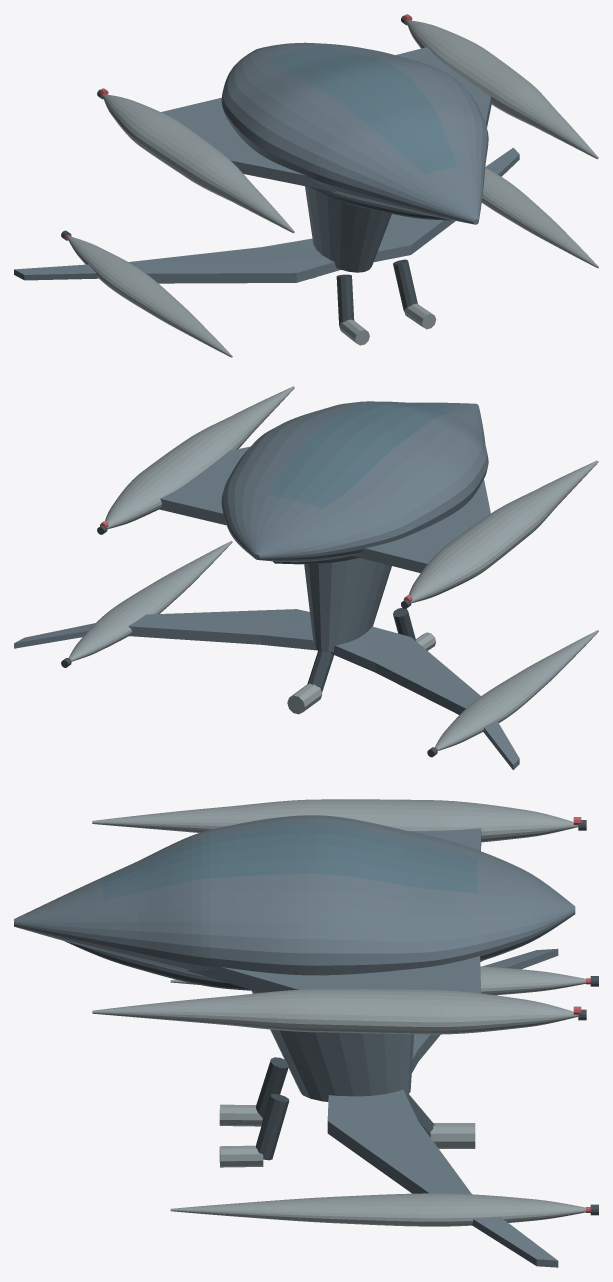
Rendered from arma_navy_landed.glb.
3 views of the same model, one above another, from view 1: azimuth 30°, elevation 25°; view 2: azimuth 150°, elevation 25°; view 3: azimuth 270°, elevation 25° (orthographic). The views are drawn at different scales.
Visible parts, largest first — view 1: material_0, material_3, material_1, material_2; view 2: material_0, material_3, material_1, material_2; view 3: material_0, material_3, material_1, material_2.
Boxes of the visible parts, x1,y1,x2,y2 form: material_0: (14, 42, 519, 283); material_3: (67, 20, 598, 357); material_1: (267, 46, 457, 174); material_2: (61, 15, 453, 325); material_0: (14, 401, 519, 770); material_3: (68, 386, 598, 750); material_1: (267, 401, 457, 508); material_2: (61, 525, 437, 757); material_0: (14, 815, 575, 1267); material_3: (92, 799, 585, 1226); material_1: (103, 824, 477, 900); material_2: (65, 820, 598, 1215).
Bounding box in the file's own units: 4.8 × 2.17 × 3.81.
